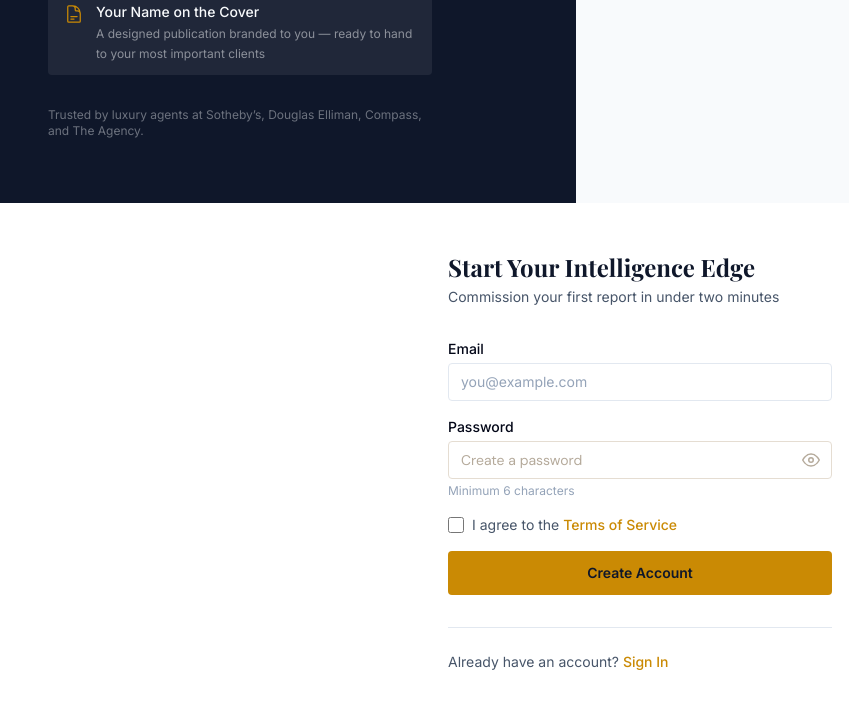
Test case: ToS Acceptance on Signup › CMP-tos-02: Signup blocked without ToS acceptance › shows error message when submitting without ToS
(page scrolled)
Type "agent@luxury.com" into the field with placeholder "you@example.com" at (640, 382), box [448,363,832,401]
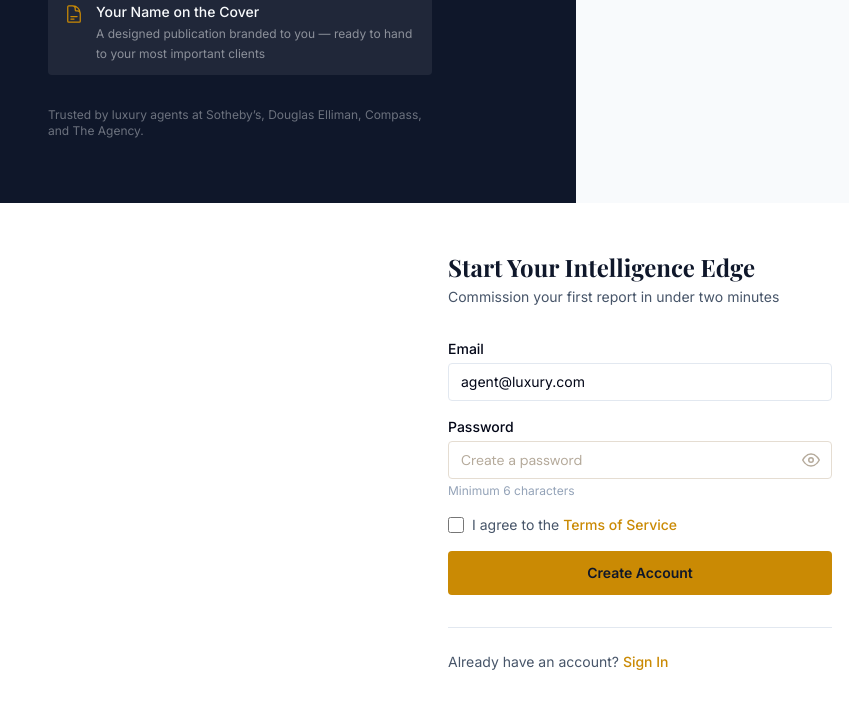
Type "securePass123" into the password field with placeholder "Create a password" at (640, 460), box [448,441,832,479]
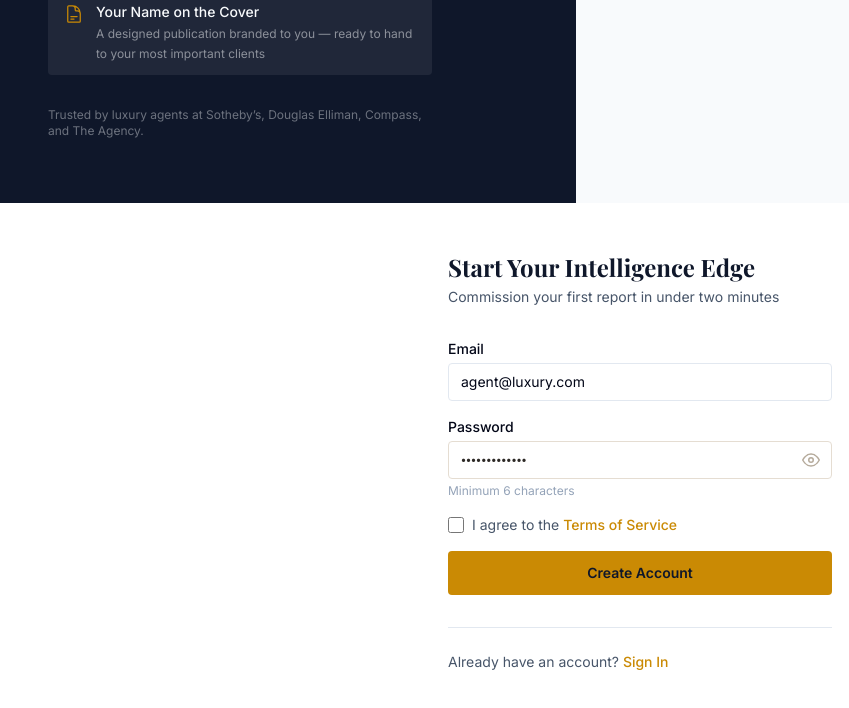
Click the button "Create Account" at (640, 573), box [448,551,832,595]
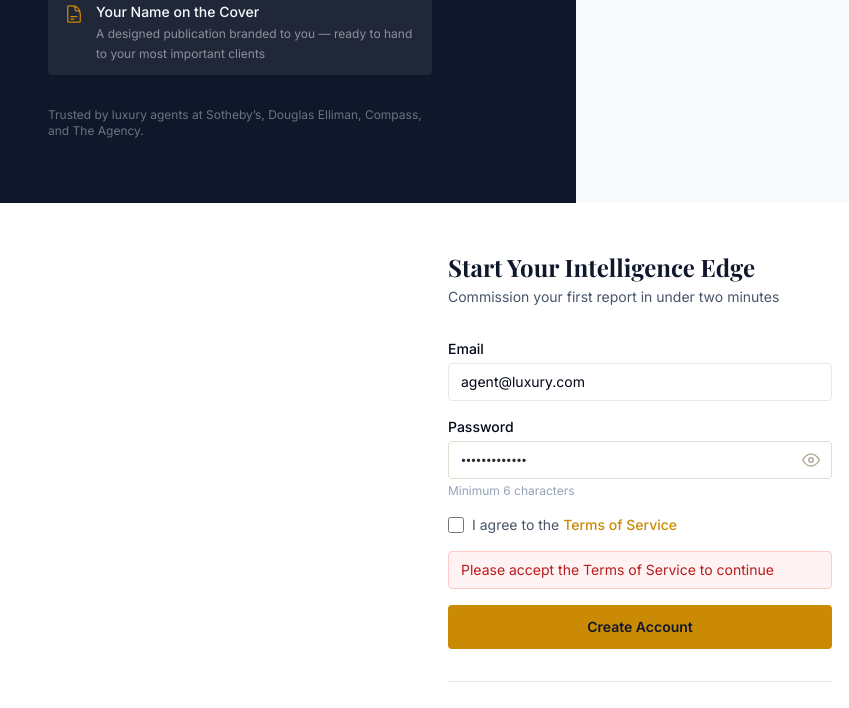
Check: the text "Please accept the Terms of Service to continue" is shown, box [461,560,819,580]
